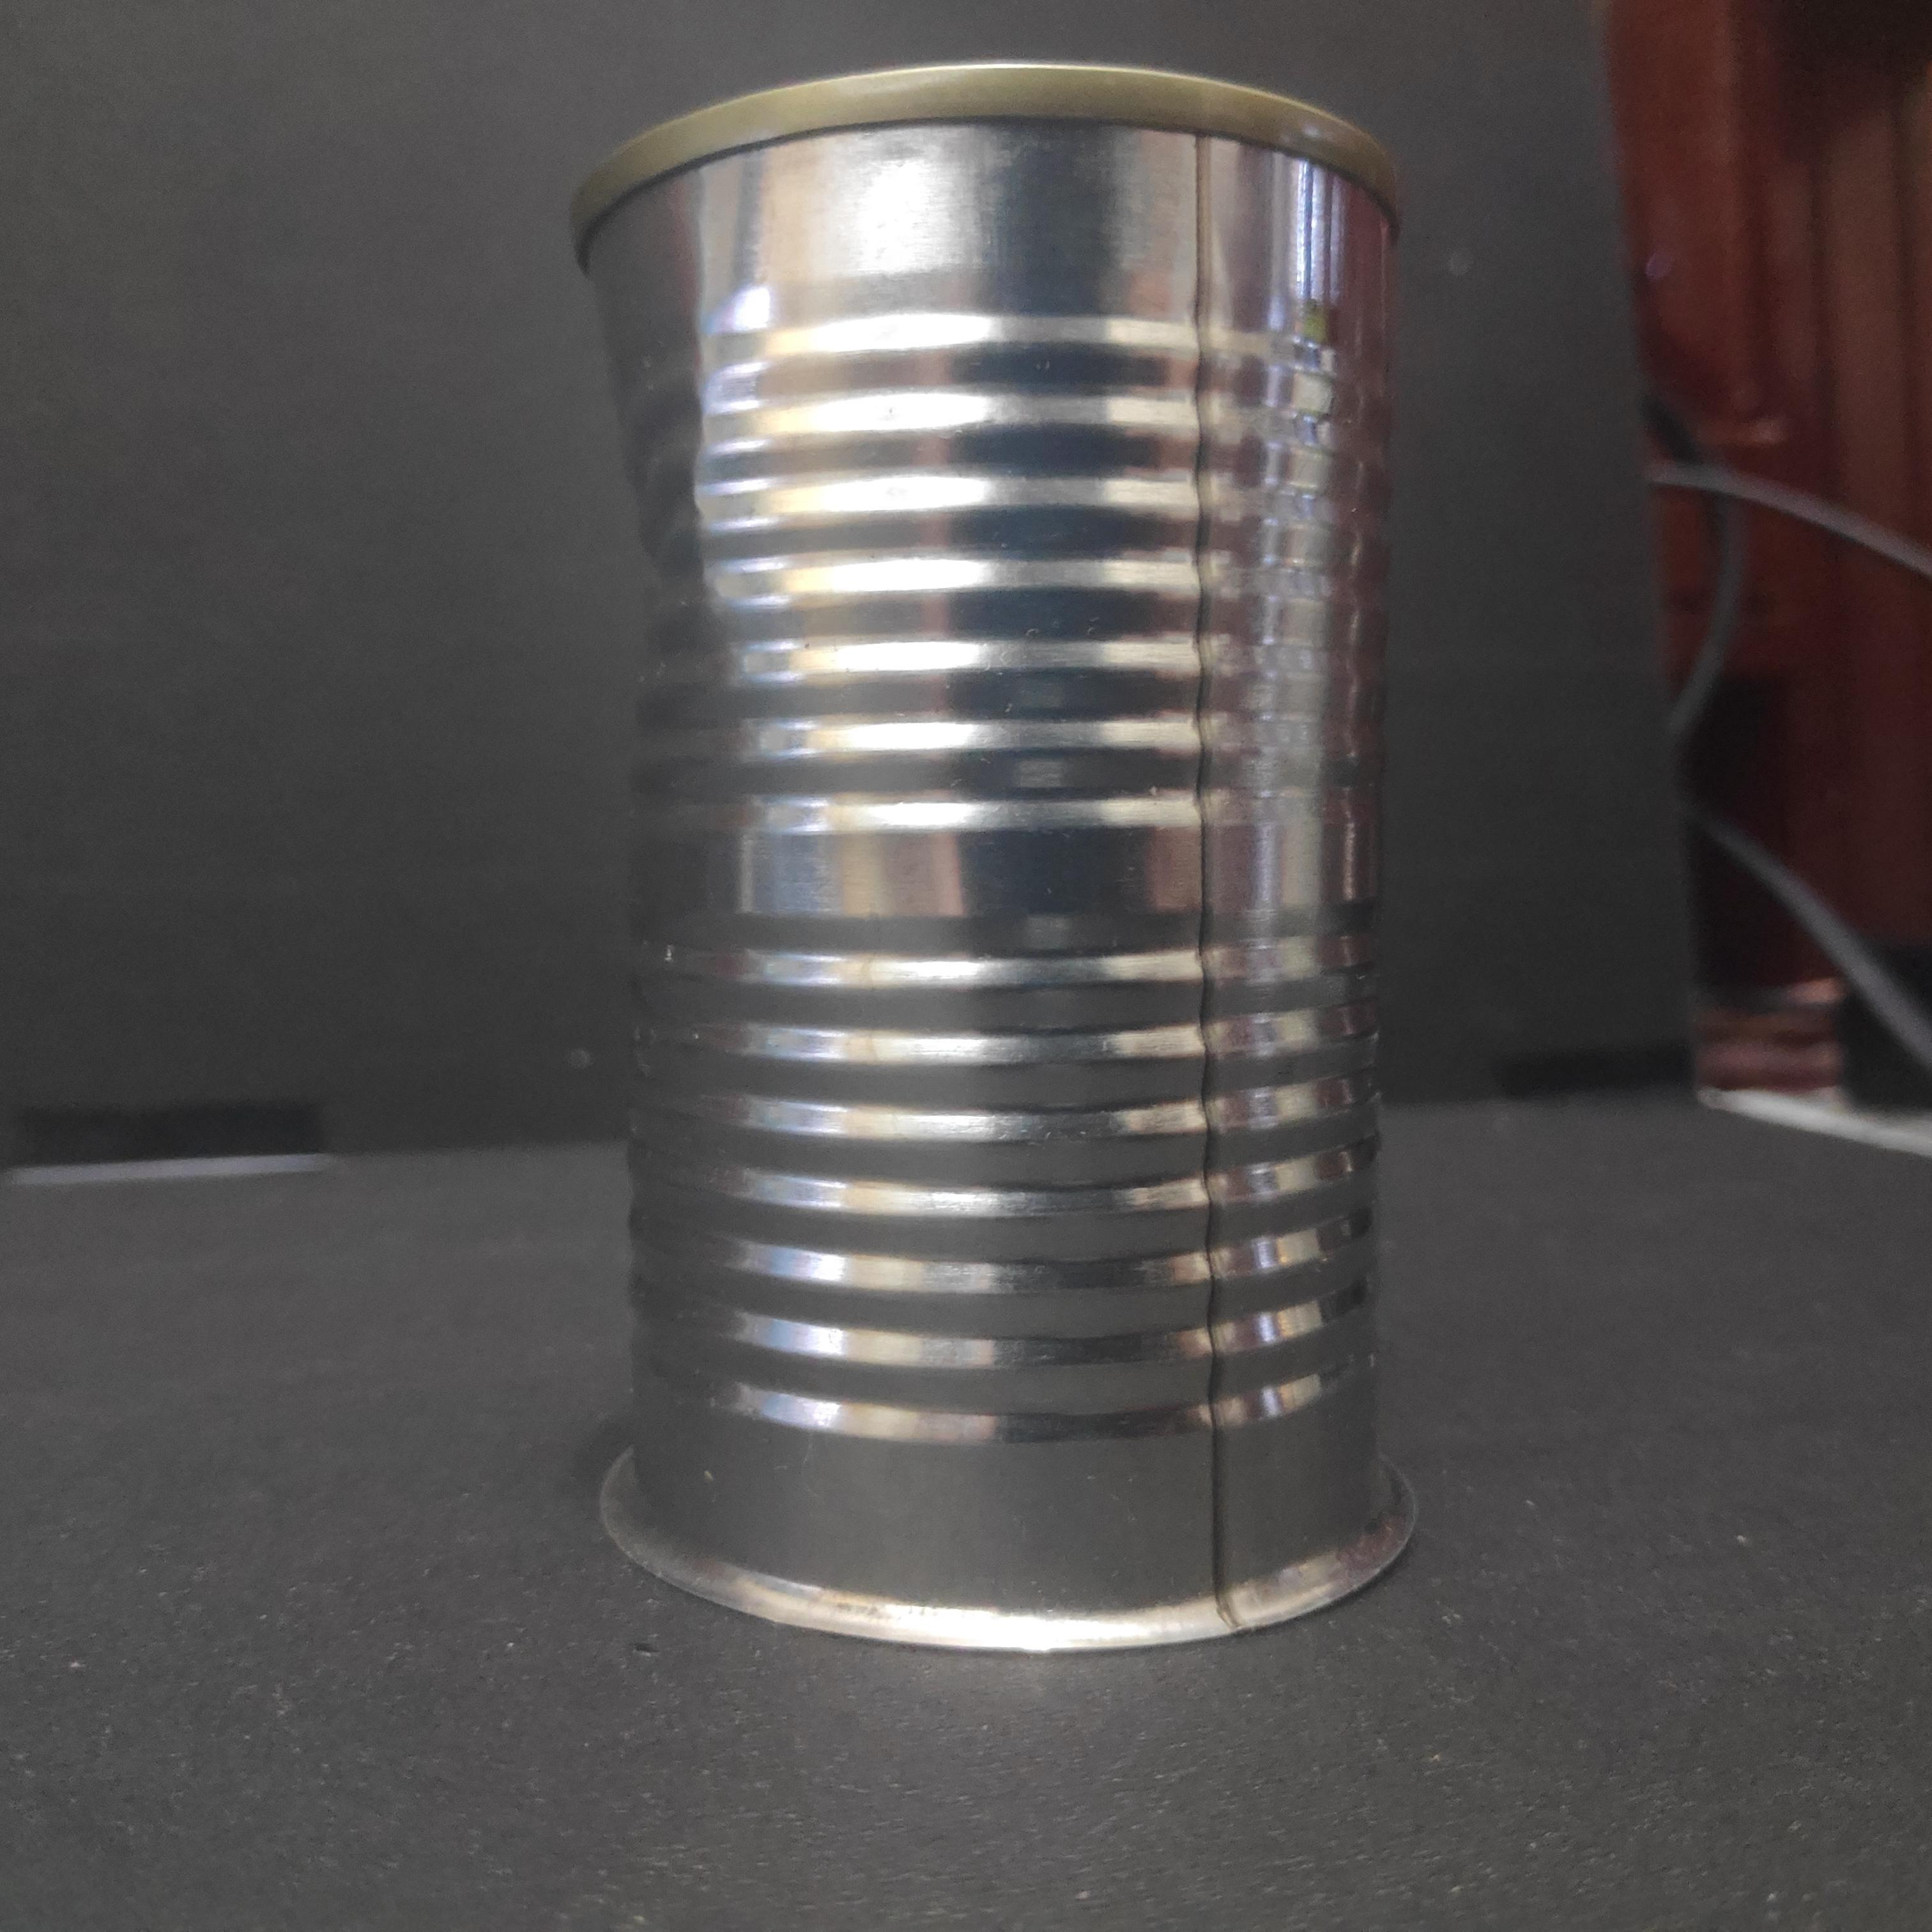Dented: (543, 35, 1454, 1700)
